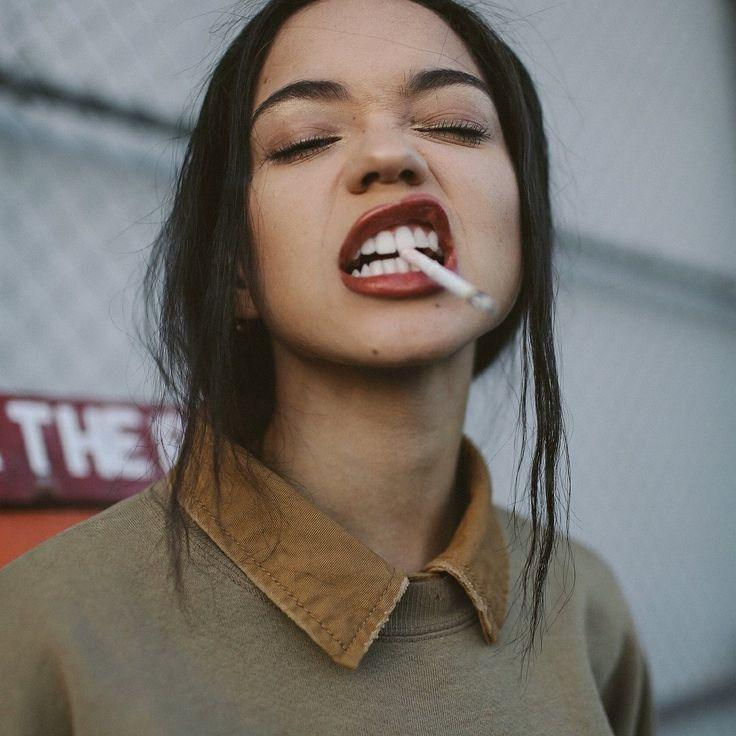cigarette: (398, 246, 497, 314)
